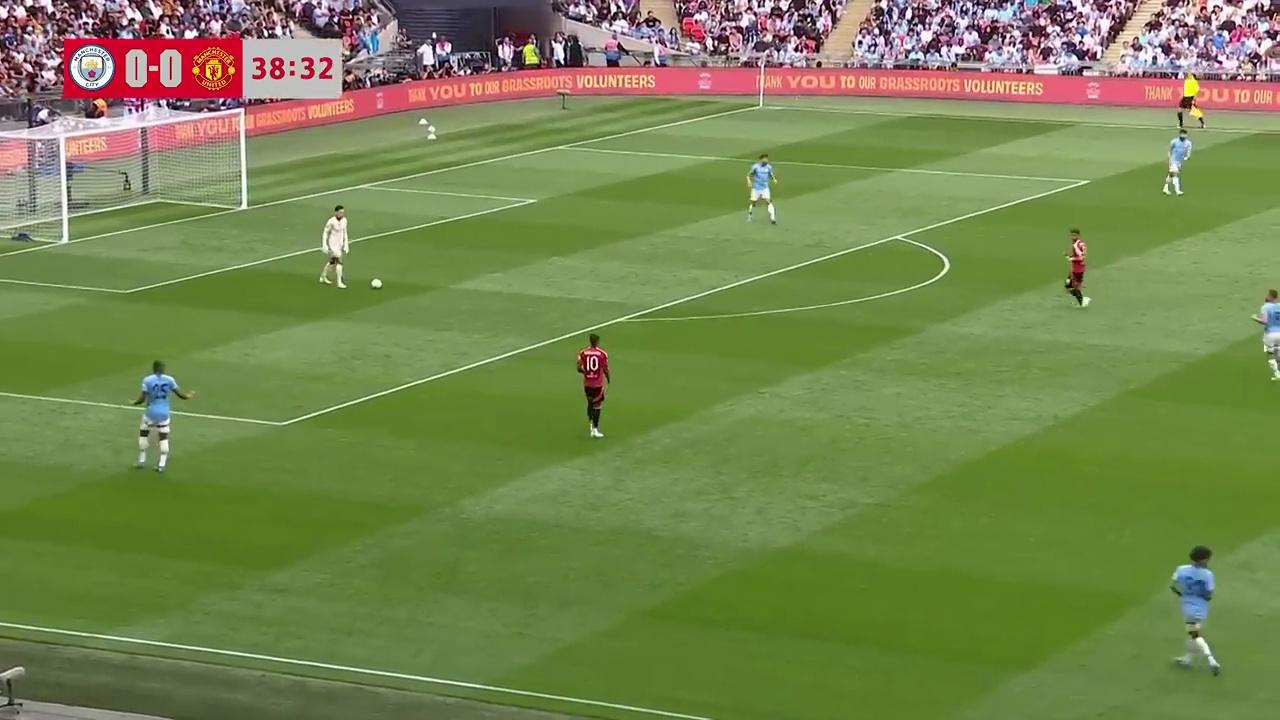ball: (369, 275, 382, 289)
player: (131, 359, 195, 473), (1168, 543, 1221, 675), (577, 331, 611, 438), (319, 205, 349, 288), (1253, 289, 1280, 381), (745, 154, 778, 225), (1162, 130, 1192, 195), (1064, 228, 1088, 307)
referee: (1173, 71, 1207, 129)
